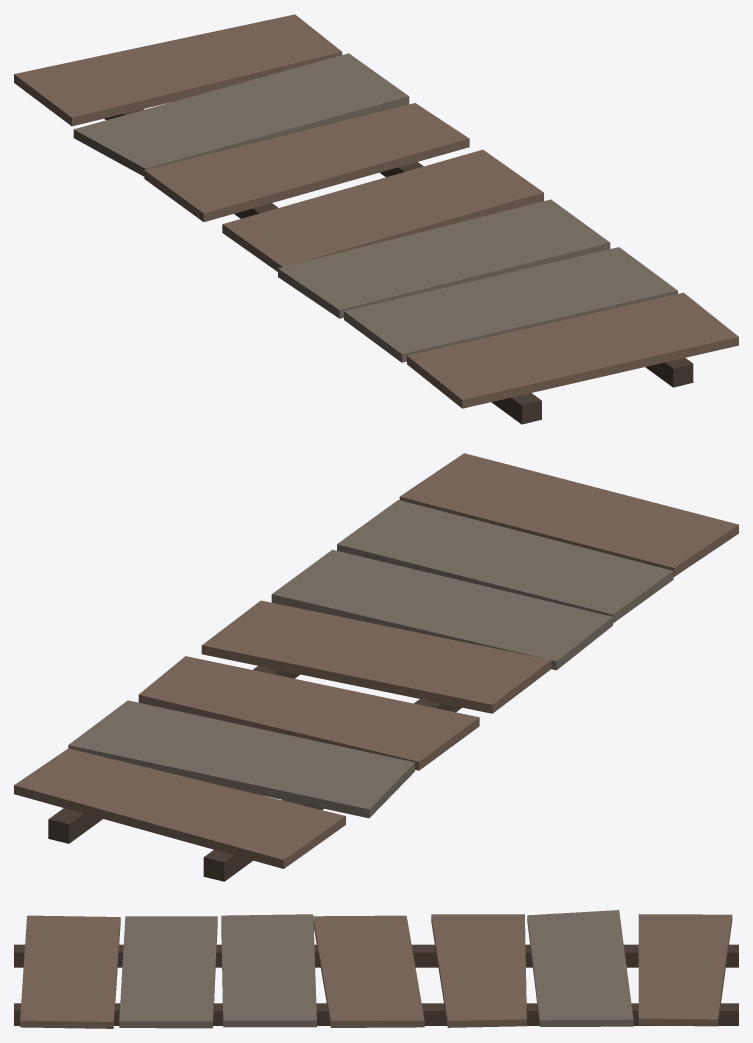
Rendered from Mines Runway 3M V2.glb.
The picture shows the model from 3 angles, top to bottom: view 1: azimuth 30°, elevation 25°; view 2: azimuth 150°, elevation 25°; view 3: azimuth 270°, elevation 25°; orthographic projection. The views are drawn at different scales.
Visible parts, largest first — view 1: Mines Runway 3M v2; view 2: Mines Runway 3M v2; view 3: Mines Runway 3M v2.
Part boxes in pixels (bbox=[...]): Mines Runway 3M v2: bbox=[14, 14, 738, 424]; Mines Runway 3M v2: bbox=[14, 453, 738, 881]; Mines Runway 3M v2: bbox=[14, 910, 738, 1028].
Size of what is drawn, in the model's own units: 1.09 by 0.1118 by 2.99.
1 material, 1 textured.
